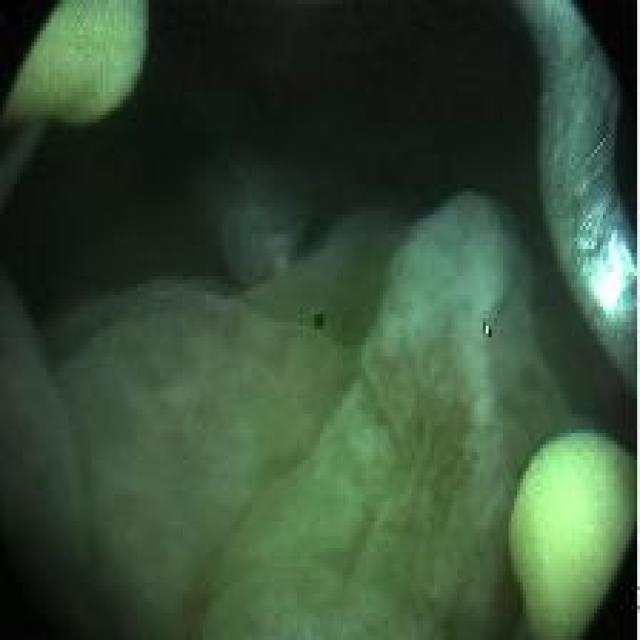color misalignment: (311, 314, 326, 330), (482, 320, 494, 340)
contrast: (20, 12, 522, 299)
instrument: (513, 9, 632, 403), (507, 429, 631, 632), (8, 3, 154, 126)
specularity: (589, 233, 635, 318)
